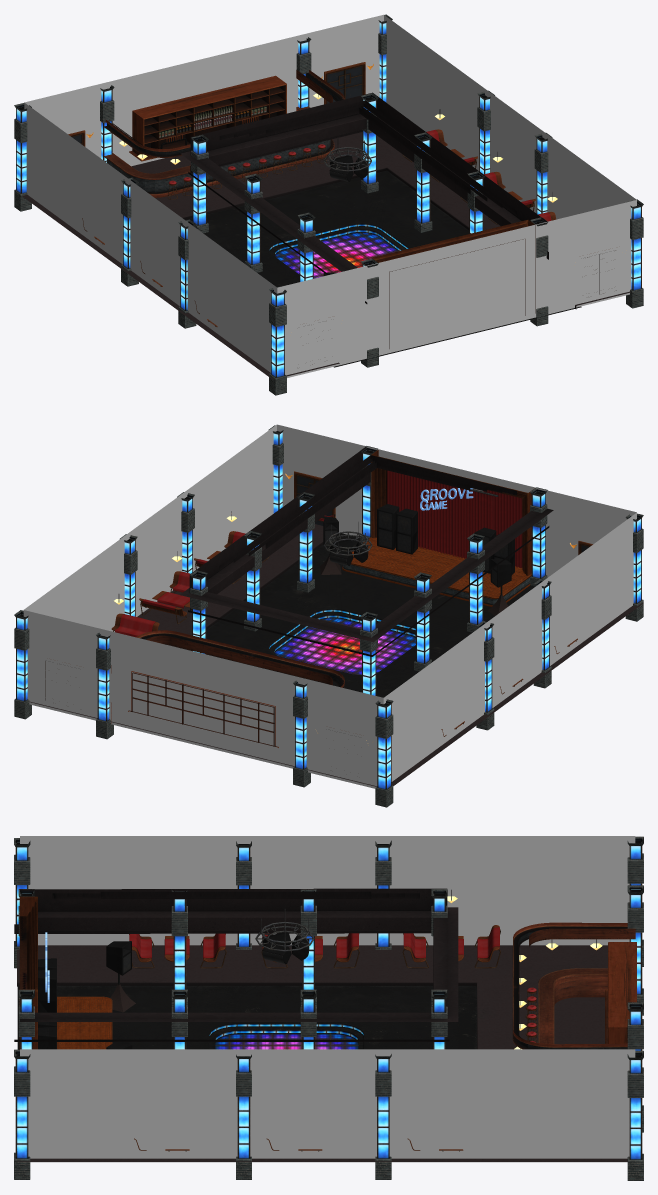
The model's file is DanceclubGeo.fbx.
The picture shows the model from 3 angles, top to bottom: view 1: azimuth 30°, elevation 25°; view 2: azimuth 150°, elevation 25°; view 3: azimuth 270°, elevation 25°; orthographic projection. The views are drawn at different scales.
Visible parts, largest first — view 1: ClubWalls, ClubPillars, FloorStepDown, LowerCeiling, FloorStepUp, ClubBarBack, ClubBar, UpperCeiling, DanceFloor, DoorScaffoldingRope, ClubBenchStoolTable, CurtiansLamp (+2 smaller); view 2: ClubWalls, ClubPillars, FloorStepDown, LowerCeiling, CurtiansLamp, FloorStepUp, ClubSpeakers, ClubStage, DanceFloor, UpperCeiling, ClubBar, ClubBenchStoolTable (+3 smaller); view 3: ClubWalls, FloorStepUp, LowerCeiling, ClubPillars, FloorStepDown, ClubBar, ClubBenchStoolTable, ClubSpeakers, UpperCeiling, ClubBarBack, DanceFloor, CurtiansLamp (+2 smaller).
Part boxes in pixels (x1,y1,x2,y2): ClubWalls: (24, 14, 636, 377); ClubPillars: (14, 14, 643, 395); FloorStepDown: (185, 170, 581, 367); LowerCeiling: (180, 92, 548, 303); FloorStepUp: (22, 132, 630, 379); ClubBarBack: (129, 75, 286, 161); ClubBar: (104, 70, 344, 197); UpperCeiling: (219, 100, 516, 215); DanceFloor: (269, 224, 408, 278); DoorScaffoldingRope: (68, 62, 616, 364); ClubBenchStoolTable: (82, 129, 556, 326); CurtiansLamp: (119, 93, 557, 348); ClubWalls: (23, 424, 636, 788); ClubPillars: (14, 425, 643, 807); FloorStepDown: (181, 533, 534, 697); LowerCeiling: (180, 446, 553, 656); CurtiansLamp: (114, 449, 534, 674); FloorStepUp: (29, 524, 643, 786); ClubSpeakers: (320, 504, 514, 615); ClubStage: (342, 537, 531, 606); DanceFloor: (269, 609, 415, 674); UpperCeiling: (219, 455, 516, 570); ClubBar: (109, 630, 344, 723); ClubBenchStoolTable: (111, 531, 577, 736); ClubWalls: (20, 836, 635, 1162); FloorStepUp: (17, 945, 627, 1161); LowerCeiling: (14, 888, 458, 1041); ClubPillars: (14, 836, 643, 1180); FloorStepDown: (17, 985, 476, 1049); ClubBar: (512, 922, 635, 1049); ClubBenchStoolTable: (129, 925, 537, 1151); ClubSpeakers: (38, 932, 309, 1049); UpperCeiling: (52, 891, 419, 899); ClubBarBack: (605, 942, 636, 1043); DanceFloor: (209, 1024, 363, 1049); CurtiansLamp: (19, 889, 602, 1049).
Size of the model in its own units: 2394 by 767 by 2886.
